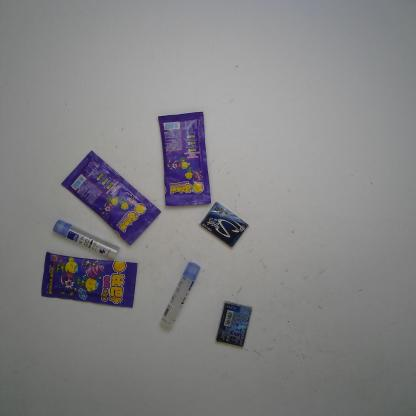Candy: (61, 150, 162, 247), (40, 251, 138, 309), (157, 111, 213, 207)
Gum: (200, 202, 248, 248), (215, 300, 253, 348)
Stationery: (51, 219, 120, 260), (162, 261, 201, 326)
